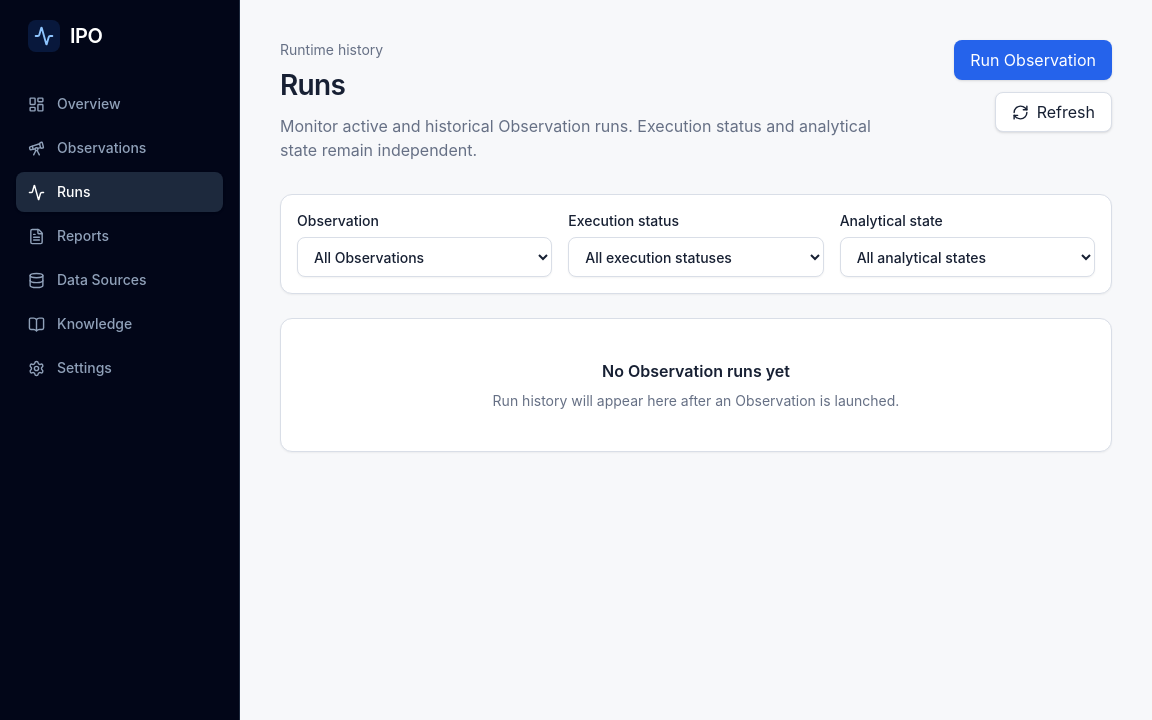
Scenario: RunsPage › launches exactly one concrete request, inserts its acceptance snapshot, and remains on the Runs list
The width and height of the screenshot is (1152, 720).
Expected: the heading "No Observation runs yet" is shown, [602,361,790,381]
Click the button "Run Observation".
click(1033, 60)  # box [954,40,1112,80]
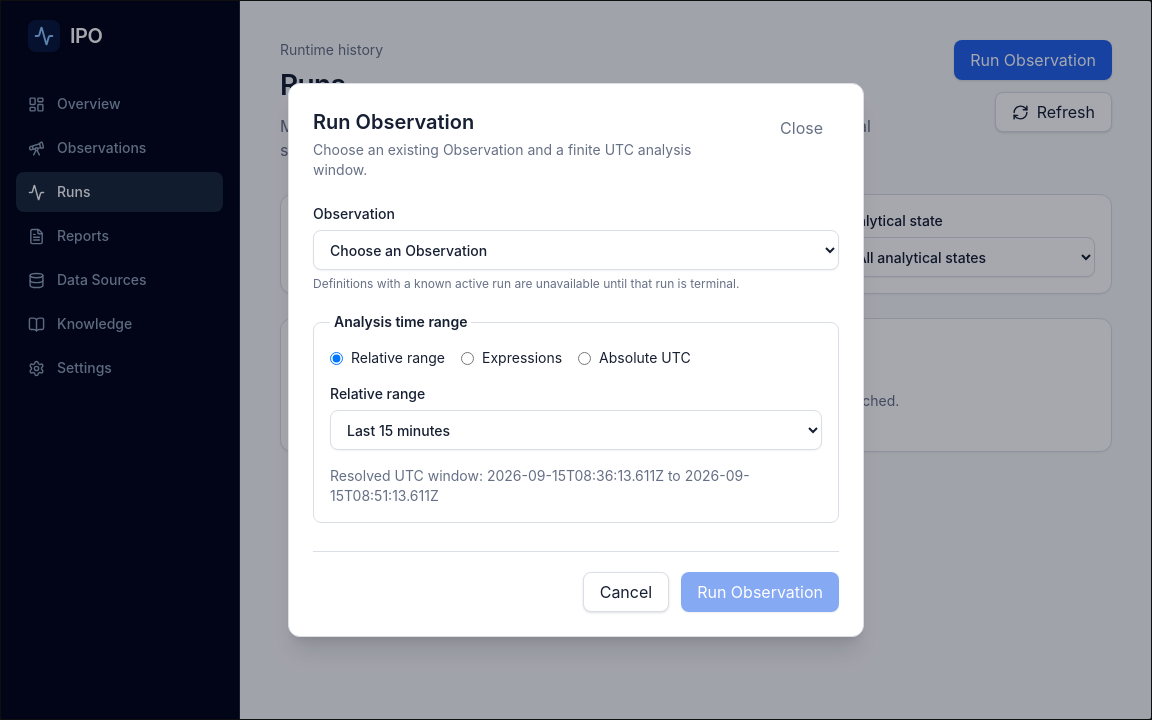
Select "Never run Observation" in the dropdown named "Observation to run" at (576,250), box [313,230,839,270]
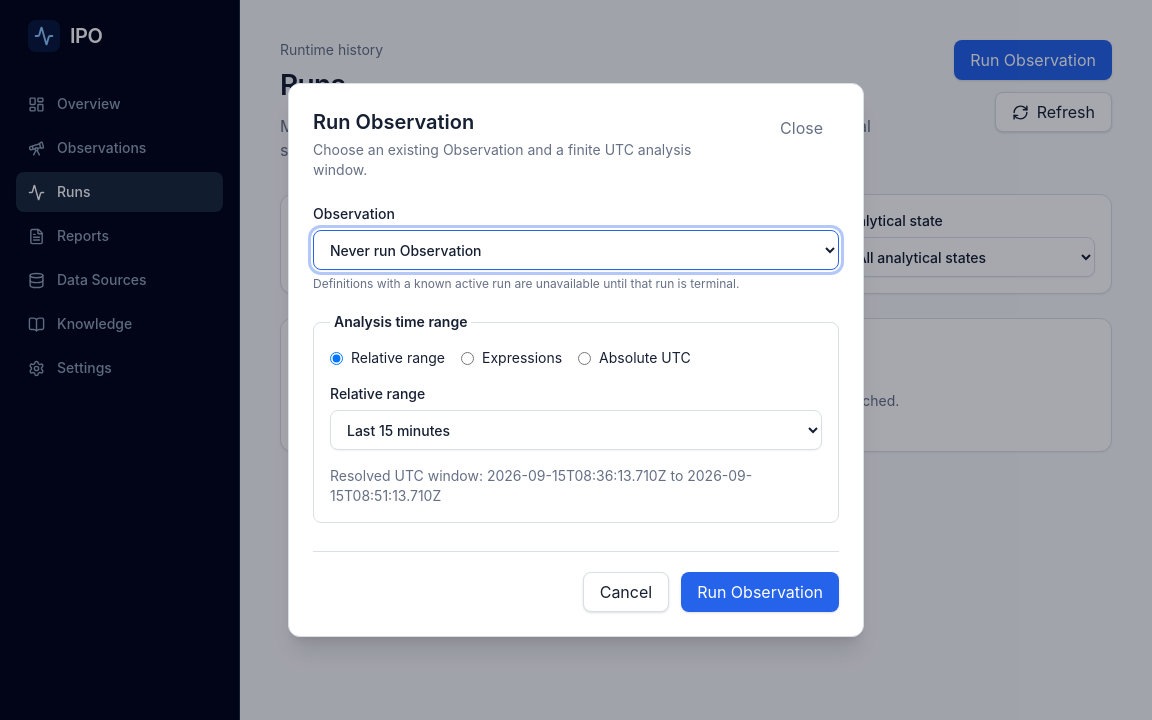
Click the button "Run Observation".
click(760, 592)  # box [681,572,839,612]
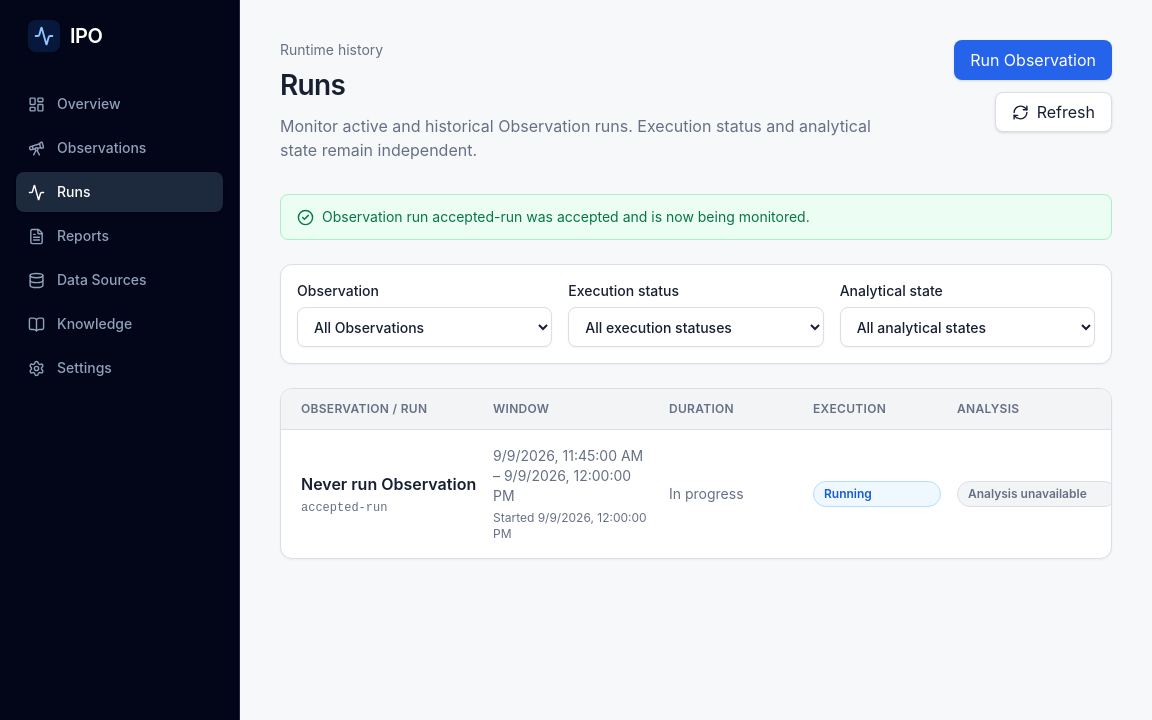
Result: the text "was accepted and is now being monitored" is shown at [322,208,810,225]
Result: the dialog is gone
Result: the text named "Run ID: accepted-run" is shown at [301,501,387,515]
